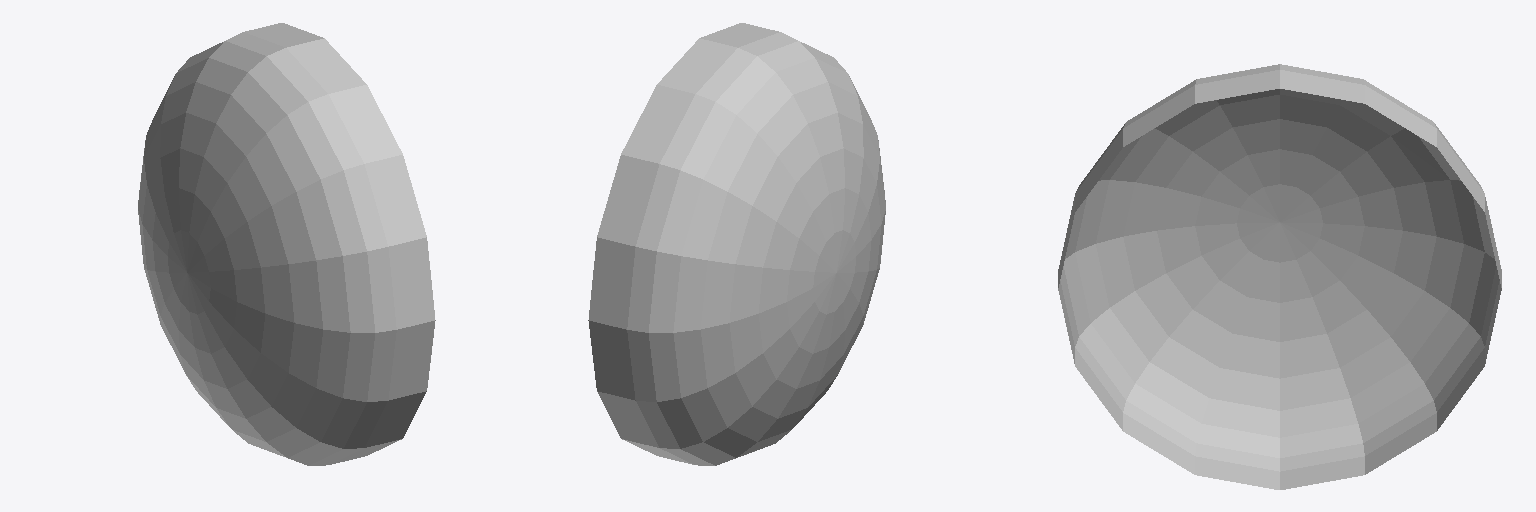
Rendered from end_socket.obj.
3 views of the same model, side by side, from view 1: azimuth 30°, elevation 25°; view 2: azimuth 150°, elevation 25°; view 3: azimuth 270°, elevation 25° (orthographic).
Parts seen in each view (by area): view 1: __; view 2: __; view 3: __.
Boxes of the visible parts, x1=… form: __: x1=138, y1=23, x2=435, y2=465; __: x1=588, y1=23, x2=885, y2=465; __: x1=1058, y1=64, x2=1501, y2=489.
Bounding box in the file's own units: 27.83 × 77.8 × 77.8.